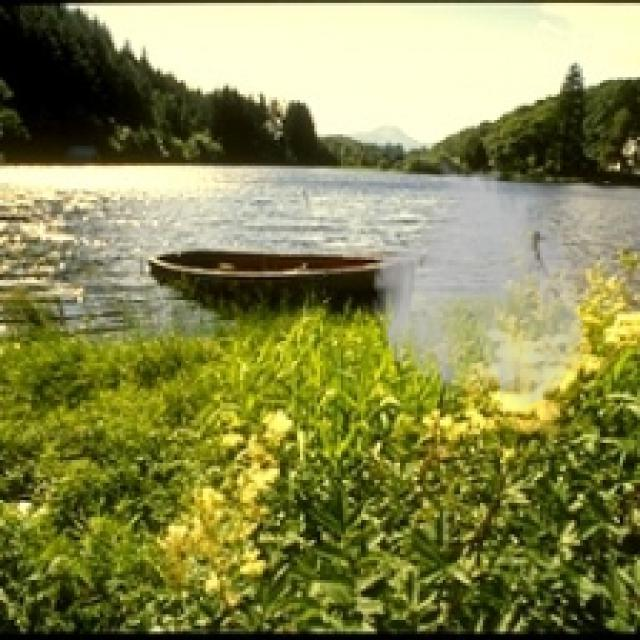Smoke: (368, 154, 588, 412)
